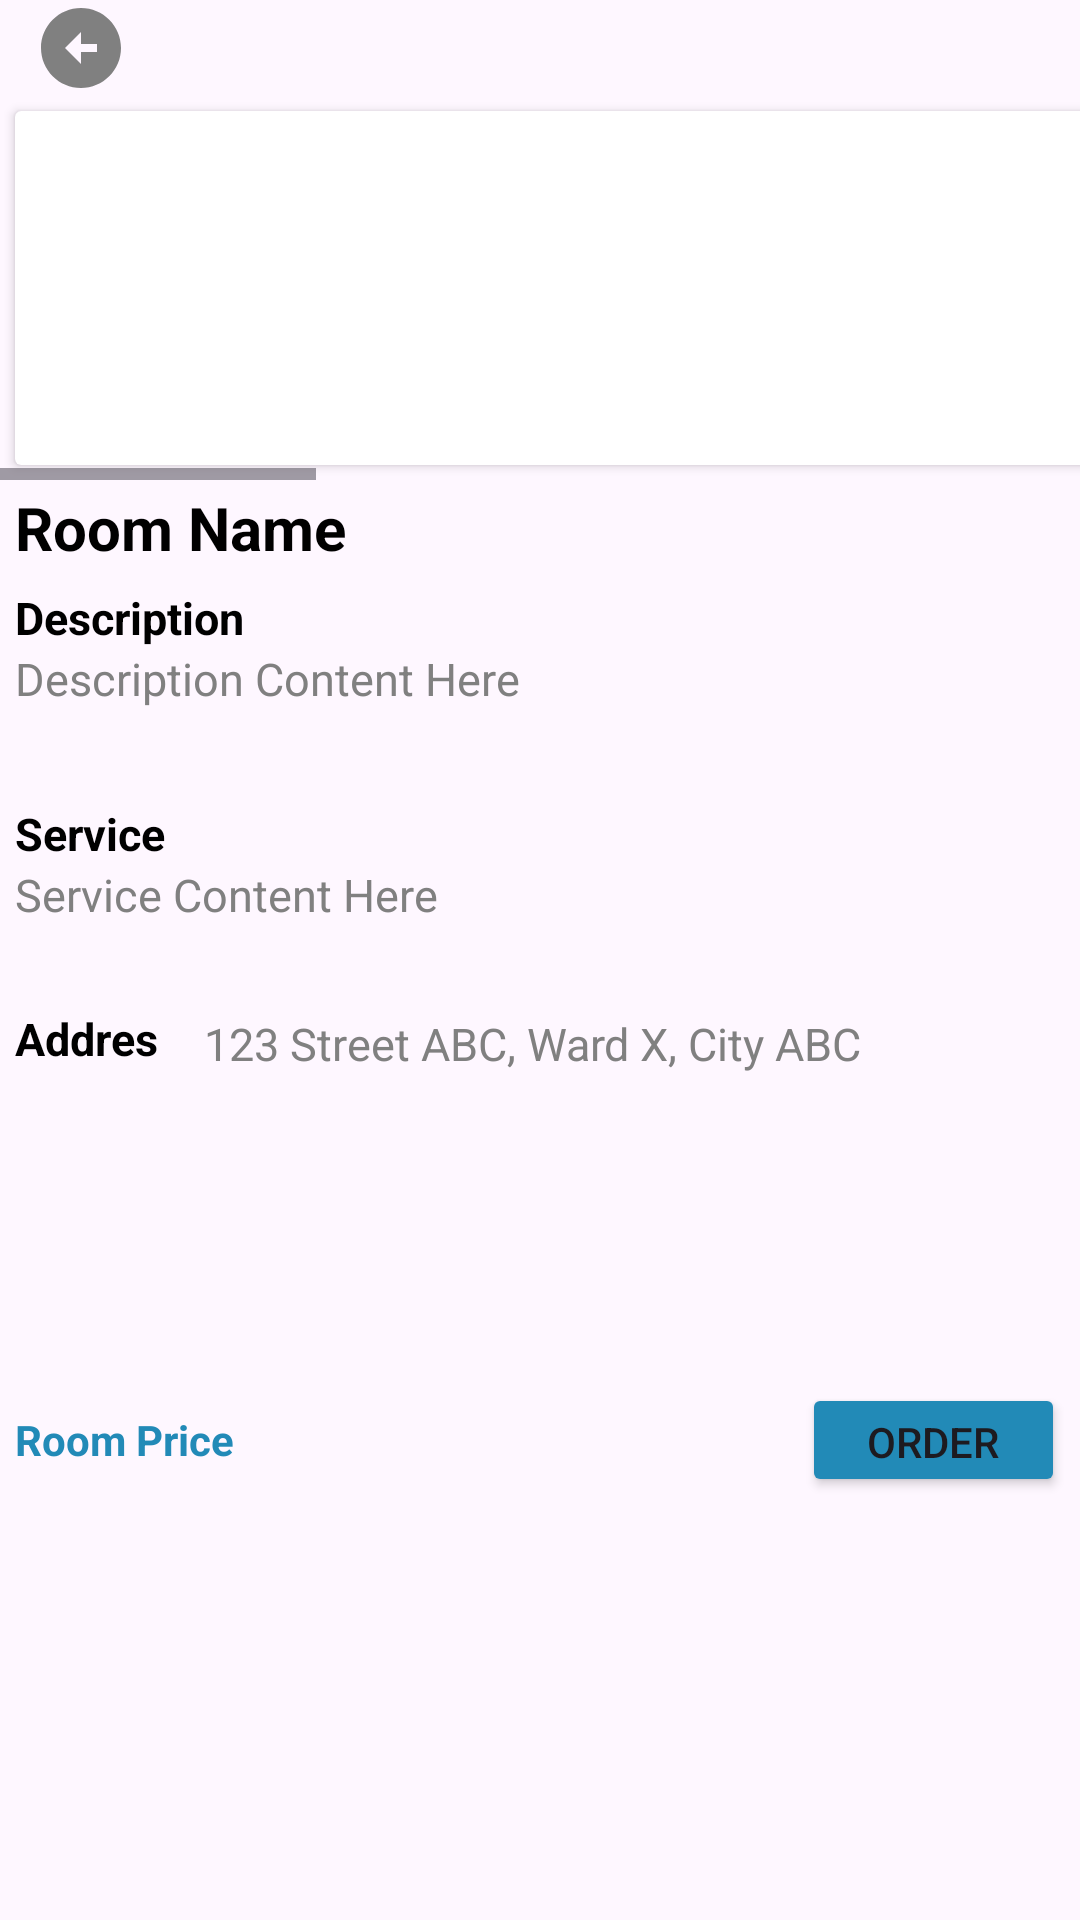

Icon bounding boxes for this 1080*1920 phone screenshot, format (x1, y1, x2, y2):
back: (41, 8, 121, 88)
